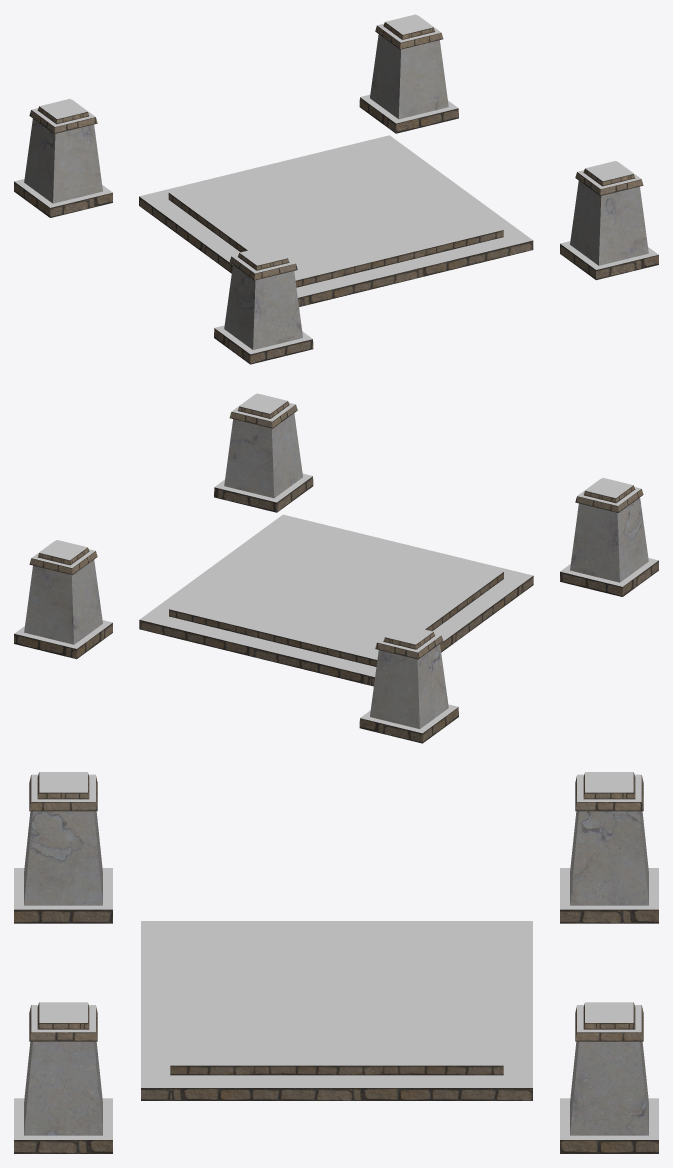
The model's file is decorative-2.fbx.
3 renders of one model, top to bottom at view 1: azimuth 30°, elevation 25°; view 2: azimuth 150°, elevation 25°; view 3: azimuth 270°, elevation 25°, orthographic. The views are drawn at different scales.
Parts seen in each view (by area): view 1: decorative-2; view 2: decorative-2; view 3: decorative-2.
Boxes of the visible parts, bbox=[...] form: decorative-2: bbox=[14, 14, 658, 364]; decorative-2: bbox=[14, 393, 658, 743]; decorative-2: bbox=[14, 772, 658, 1153].
Bounding box in the file's own units: 394 × 81.24 × 395.
